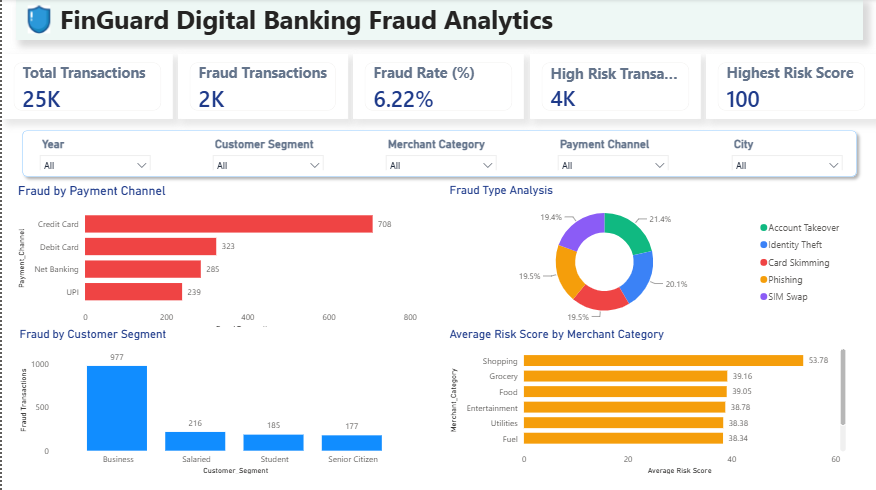

This screenshot's page, from the dashboard's own definition file:
{"tool":"powerbi","page":{"name":"Fraud Investigation Dashboard","canvas":[1280,720],"ordinal":1},"visuals":[{"type":"shape","box":[20.5,0,1239.5,60],"z":0},{"type":"actionButton","box":[29.3,4.4,49.8,51.2],"z":1000},{"type":"textbox","box":[84.9,4,1153.2,57.1],"z":2000},{"type":"cardVisual","fields":{"Data":["transactions.Total Transactions"]},"box":[0,80,250.2,95.1],"z":3000},{"type":"cardVisual","fields":{"Data":["transactions.Fraud Transactions"]},"box":[257.8,80,248.8,95.1],"z":4000},{"type":"cardVisual","fields":{"Data":["transactions.Fraud Rate (%)"]},"box":[514.1,80,250.2,95.1],"z":5000},{"type":"cardVisual","fields":{"Data":["transactions.High Risk Transactions"]},"box":[772,80,250.2,95.1],"z":6000},{"type":"cardVisual","fields":{"Data":["transactions.Highest Risk Score"]},"box":[1029.8,80,250.2,95.1],"z":7000},{"type":"shape","box":[20.1,183.5,1239.5,86.3],"z":8000},{"type":"slicer","fields":{"Values":["customers.Account_Open_Year"]},"box":[45.9,196.9,182,52.7],"z":9000},{"type":"slicer","fields":{"Values":["customers.Customer_Segment"]},"box":[298.5,196.9,182,52.7],"z":10000},{"type":"slicer","fields":{"Values":["merchants.Merchant_Category"]},"box":[551,196.9,182,52.7],"z":11000},{"type":"slicer","fields":{"Values":["transactions.Payment_Channel"]},"box":[803.6,196.9,182,52.7],"z":12000},{"type":"slicer","fields":{"Values":["customers.City"]},"box":[1057.6,196.9,182,52.7],"z":13000},{"type":"clusteredBarChart","title":"Fraud by Payment Channel","fields":{"Category":["transactions.Payment_Channel"],"Y":["transactions.Fraud Transactions"]},"box":[20.2,268.9,589.6,220.1],"z":13001},{"type":"donutChart","title":"Fraud Type Analysis","fields":{"Category":["transactions.Fraud_Type"],"Y":["transactions.Transactions Count"]},"box":[650.1,268.9,589.6,211.7],"z":13002},{"type":"clusteredColumnChart","title":"Fraud by Customer Segment","fields":{"Category":["customers.Customer_Segment"],"Y":["transactions.Fraud Transactions"]},"box":[20.2,480.4,590,220],"z":13003},{"type":"clusteredBarChart","title":"Average Risk Score by Merchant Category","fields":{"Category":["merchants.Merchant_Category"],"Y":["transactions.Average Risk Score"]},"box":[649.8,480,590,220],"z":13004}]}

Visuals, with their boxes in screenshot pixels (x1, y1, x2, y2), scaled from the page's 1280x720 canvas onto the 876x490 screenshot:
shape: region(14, 0, 862, 41)
actionButton: region(20, 3, 54, 38)
textbox: region(58, 3, 847, 42)
cardVisual - transactions.Total Transactions: region(0, 54, 171, 119)
cardVisual - transactions.Fraud Transactions: region(176, 54, 347, 119)
cardVisual - transactions.Fraud Rate (%): region(352, 54, 523, 119)
cardVisual - transactions.High Risk Transactions: region(528, 54, 700, 119)
cardVisual - transactions.Highest Risk Score: region(705, 54, 875, 119)
shape: region(14, 125, 862, 184)
slicer - customers.Account_Open_Year: region(31, 134, 156, 170)
slicer - customers.Customer_Segment: region(204, 134, 329, 170)
slicer - merchants.Merchant_Category: region(377, 134, 502, 170)
slicer - transactions.Payment_Channel: region(550, 134, 675, 170)
slicer - customers.City: region(724, 134, 848, 170)
"Fraud by Payment Channel" clusteredBarChart: region(14, 183, 417, 333)
"Fraud Type Analysis" donutChart: region(445, 183, 848, 327)
"Fraud by Customer Segment" clusteredColumnChart: region(14, 327, 418, 477)
"Average Risk Score by Merchant Category" clusteredBarChart: region(445, 327, 848, 476)
